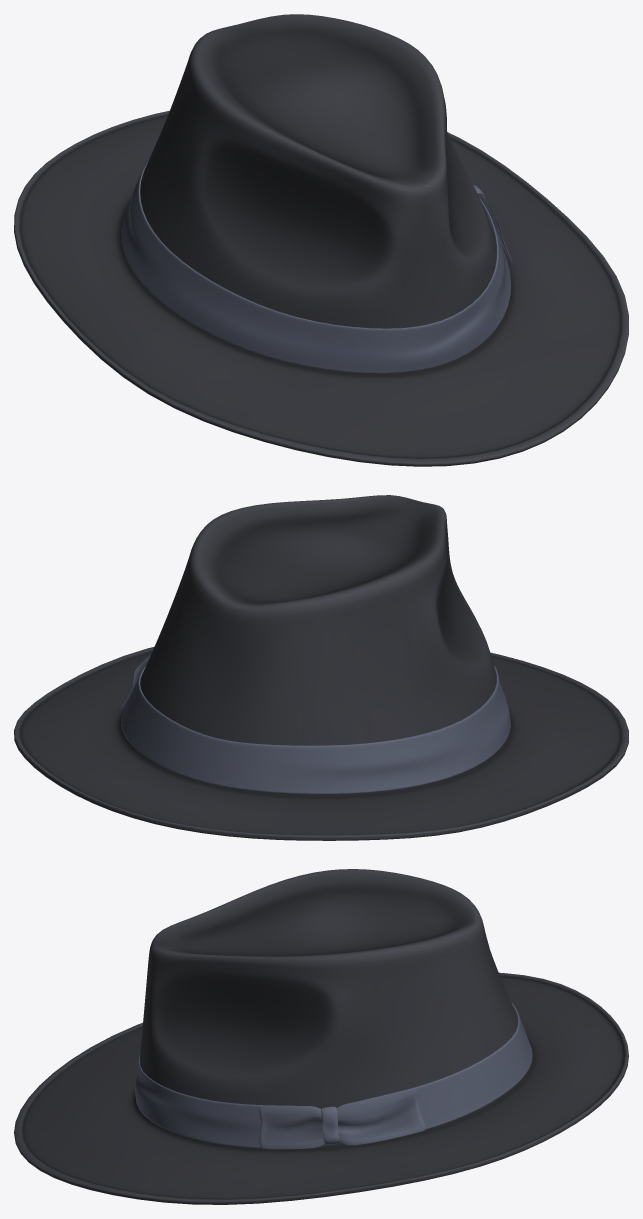
3 renders of one model, top to bottom at view 1: azimuth 30°, elevation 25°; view 2: azimuth 150°, elevation 25°; view 3: azimuth 270°, elevation 25°, orthographic. The views are drawn at different scales.
Parts seen in each view (by area): view 1: 01; view 2: 01; view 3: 01.
Boxes of the visible parts, <box> form: 01: <box>14,14,628,466</box>; 01: <box>14,495,628,840</box>; 01: <box>14,869,628,1204</box>.
Size of the model in its own units: 3.33 by 1.64 by 4.09.
Materials: 1 (1 with a texture image).
